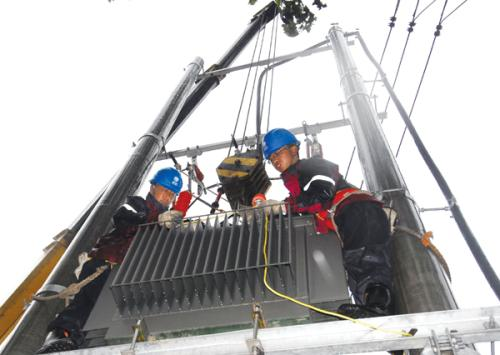boots: (334, 279, 395, 315), (33, 317, 78, 354)
gloves: (259, 193, 295, 216), (158, 209, 183, 229)
hard-hat: (262, 128, 300, 160), (150, 167, 183, 194)
person: (35, 166, 186, 352), (253, 126, 398, 319)
ppe-suit: (35, 165, 189, 353), (278, 155, 397, 317)
